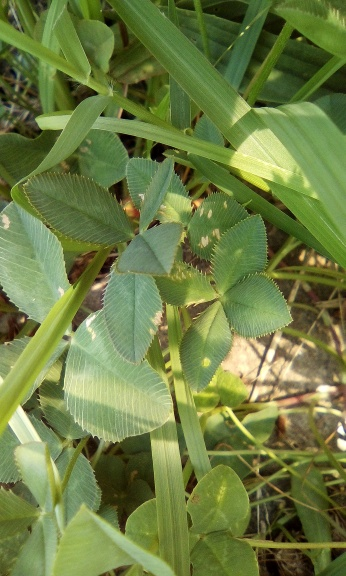4leaf: (22, 154, 185, 365), (151, 212, 293, 395)
